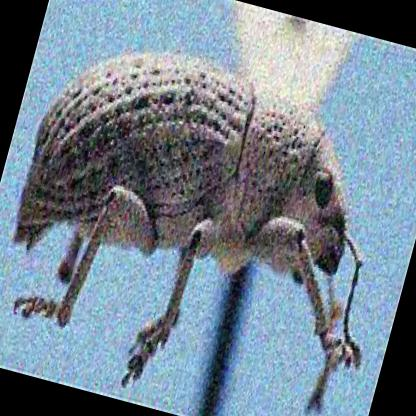ash weevil: (6, 53, 363, 416)
